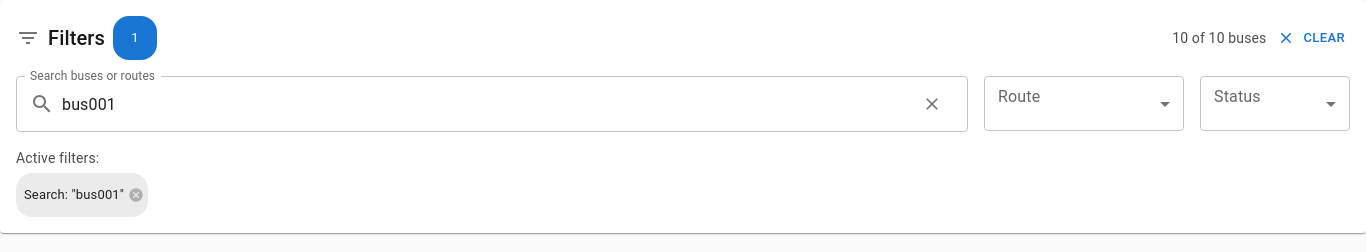
it: FilterPanel Component › clears search when clear icon in search field is clicked
The image size is (1366, 252).
Note: Find and click the clear icon in search field
Click the button named "Clear search". click: (932, 104)
box: 910,82 -> 954,126
Wait 300 ms
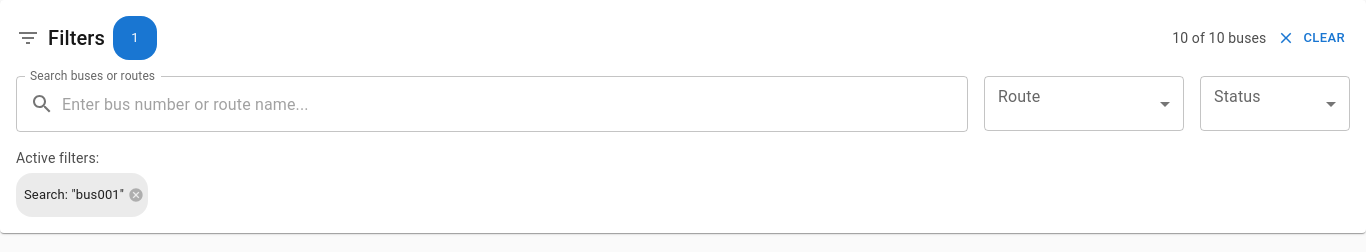
Result: the field labelled "Search buses or routes" is empty at 62,84 -> 968,124
